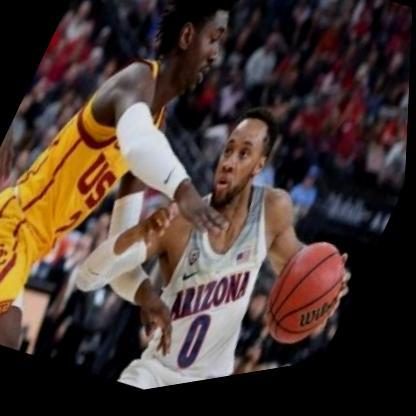basketball: (251, 233, 369, 377)
